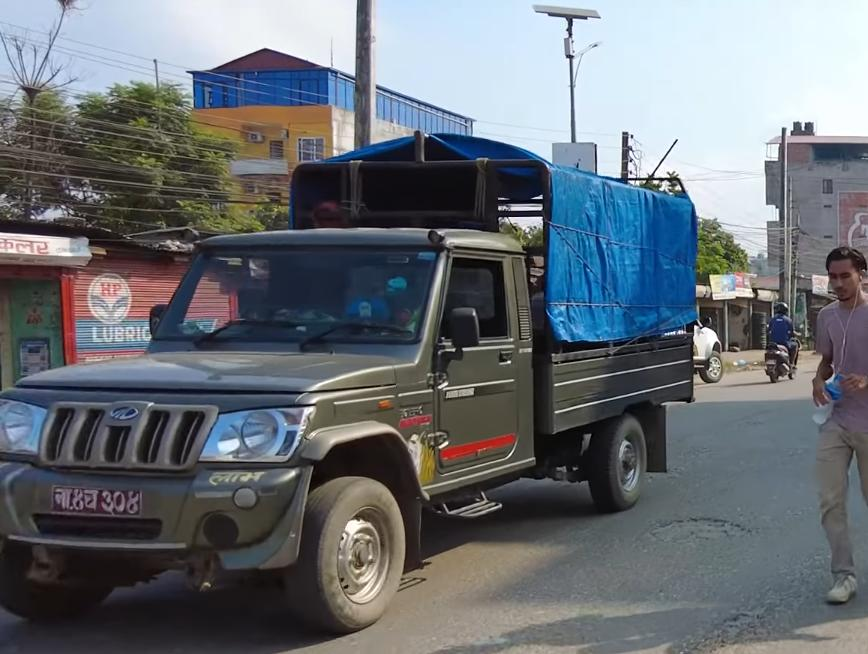police_vehicle: (0, 124, 710, 639)
scooter: (763, 327, 807, 384)
